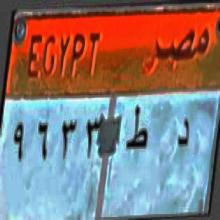3: (82, 110, 102, 164), (58, 120, 79, 161)
6: (36, 115, 52, 167)
9: (11, 115, 27, 170)
Taa: (125, 101, 156, 160)
daal: (175, 105, 193, 165)
